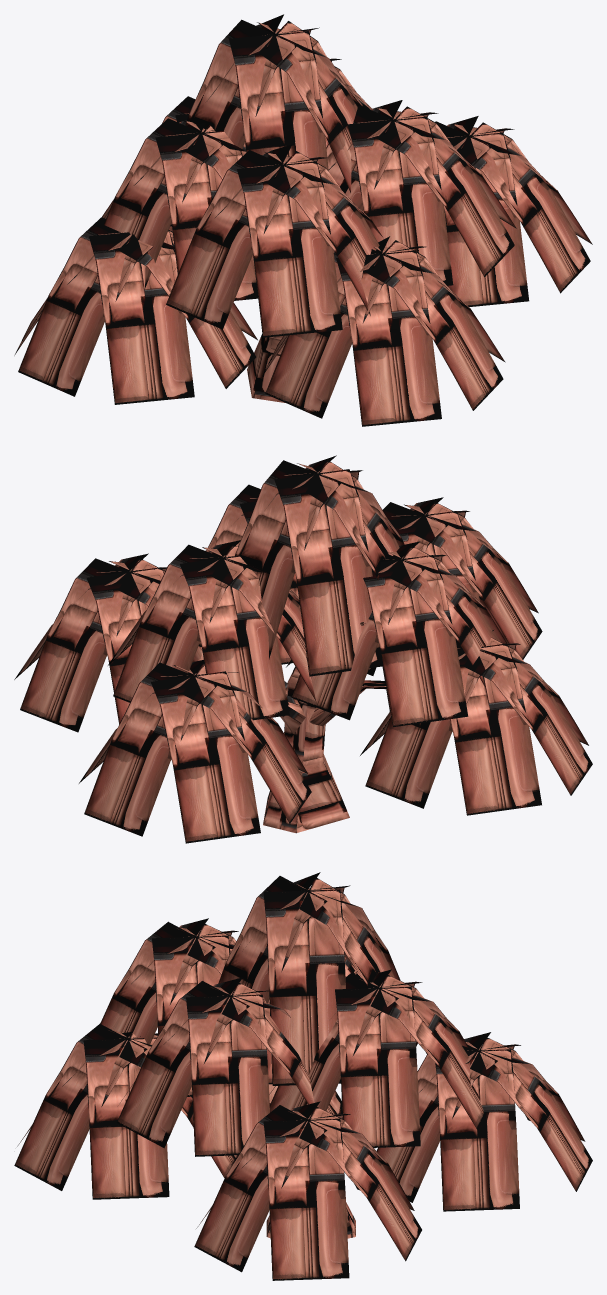
3 views of the same model, one above another, from view 1: azimuth 30°, elevation 25°; view 2: azimuth 150°, elevation 25°; view 3: azimuth 270°, elevation 25° (orthographic). The views are drawn at different scales.
Parts seen in each view (by area): view 1: 2_Cluster5, 1_Trunk; view 2: 2_Cluster5, 1_Trunk; view 3: 2_Cluster5.
Part boxes in pixels (x1=…): 2_Cluster5: x1=14, y1=14, x2=592, y2=426; 1_Trunk: x1=247, y1=334, x2=285, y2=402; 2_Cluster5: x1=14, y1=455, x2=592, y2=843; 1_Trunk: x1=263, y1=622, x2=386, y2=833; 2_Cluster5: x1=14, y1=872, x2=592, y2=1280.
Size of the model in its own units: 201 by 122 by 192.
Materials: 1 (1 with a texture image).
